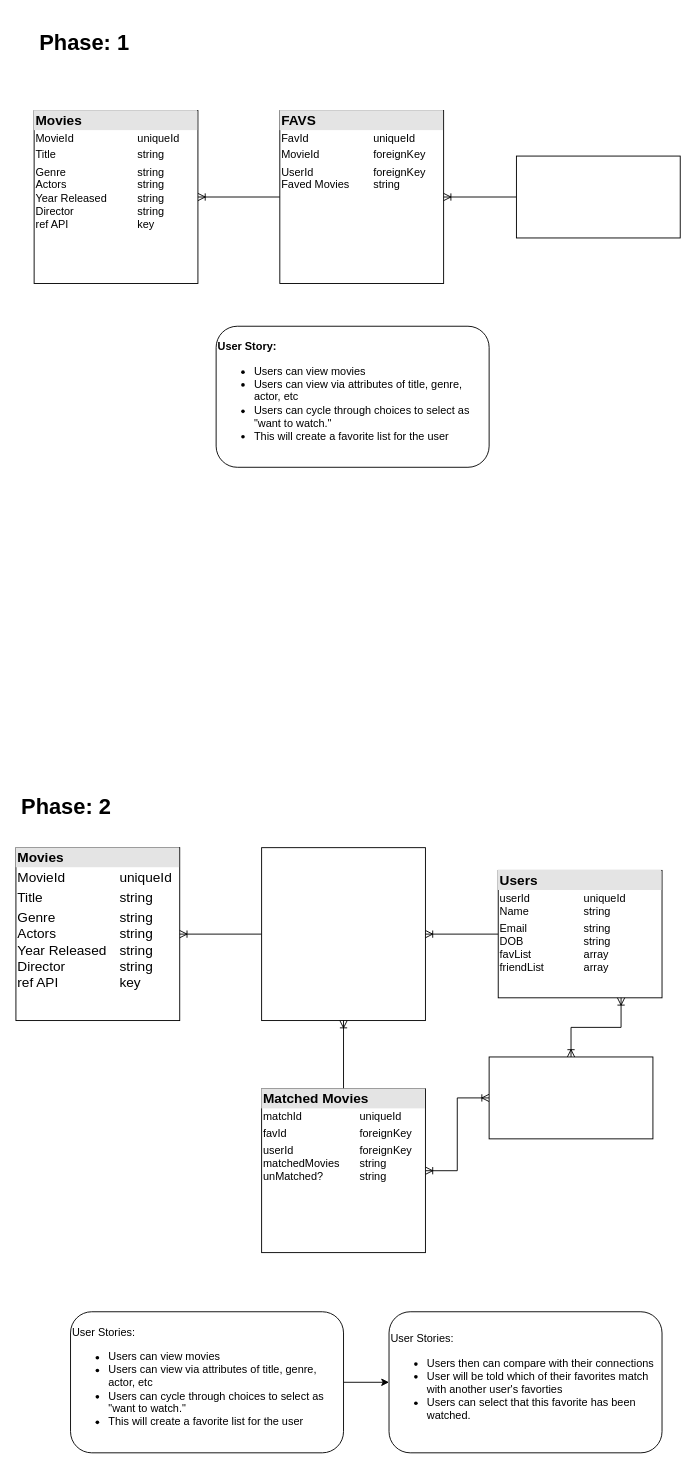
The diagram is 696 pixels wide and 1469 high, and some of its shapes have lost their labels. Here are the shapes that lost their labels. From the top down, the box of each, then its label:
(516, 155, 680, 238): Users userId Name uniqueId string Email DOB string string
(261, 847, 425, 1021): FAVS FavId uniqueId MovieId foreignKey UserId foreignKey
(488, 1056, 653, 1139): Connections connectionId uniqueId user1Id user2Id foreignKey foreignKey
